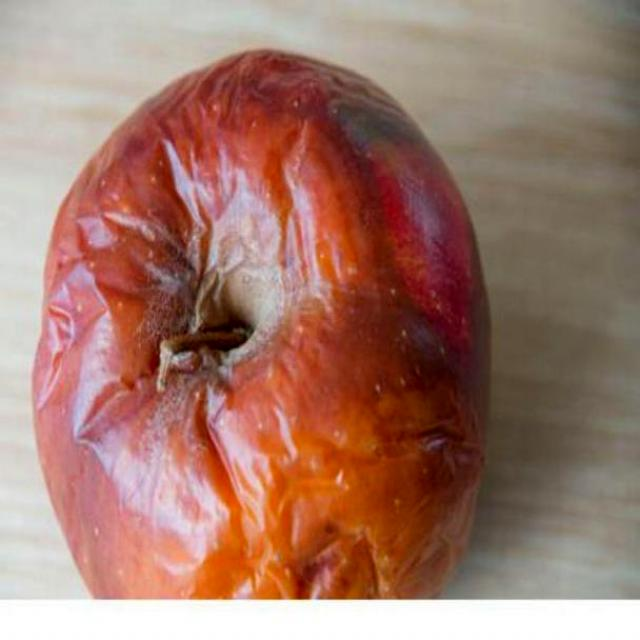ROT: (21, 41, 483, 564)
